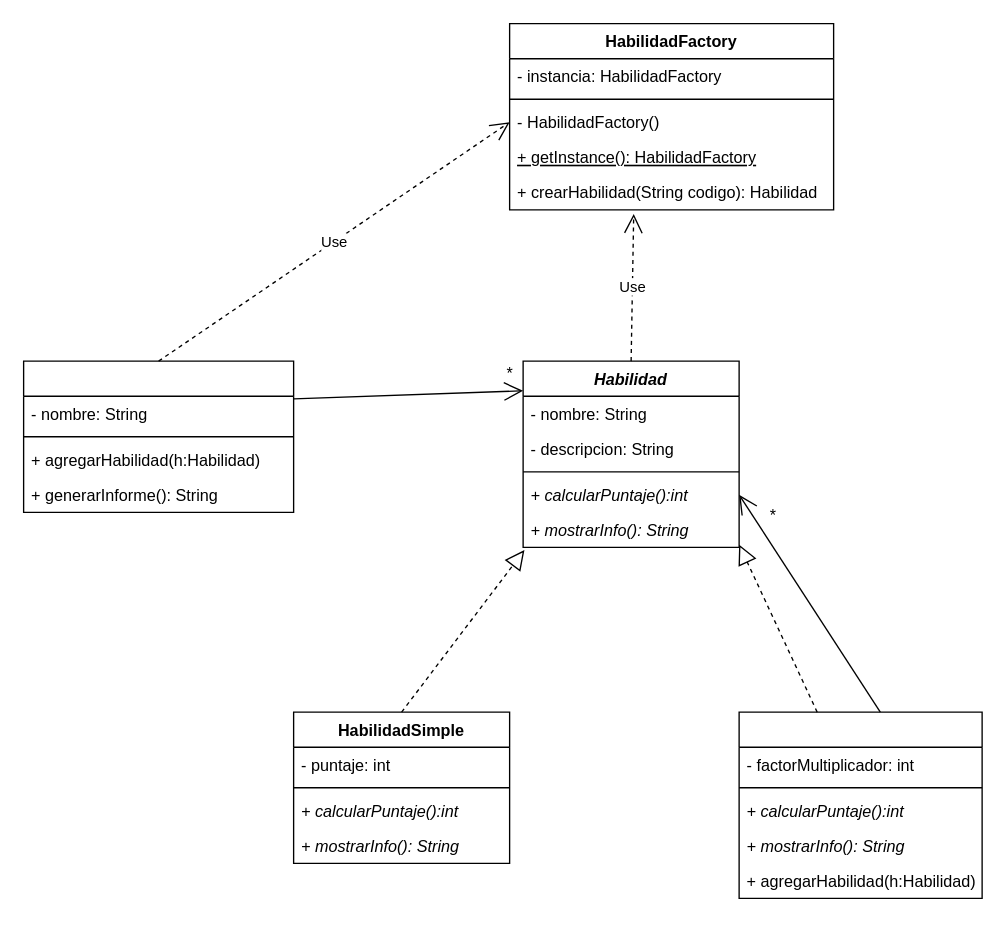
This 1006x926 diagram has some shape labels left out. Each missing label, with the box of its shape:
HabilidadCombinada: (738, 711, 982, 898)
Personaje: (22, 360, 294, 512)
